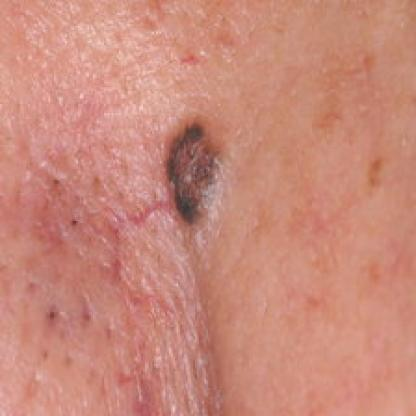Skin_Cancer-Malignant: (164, 116, 227, 222)
